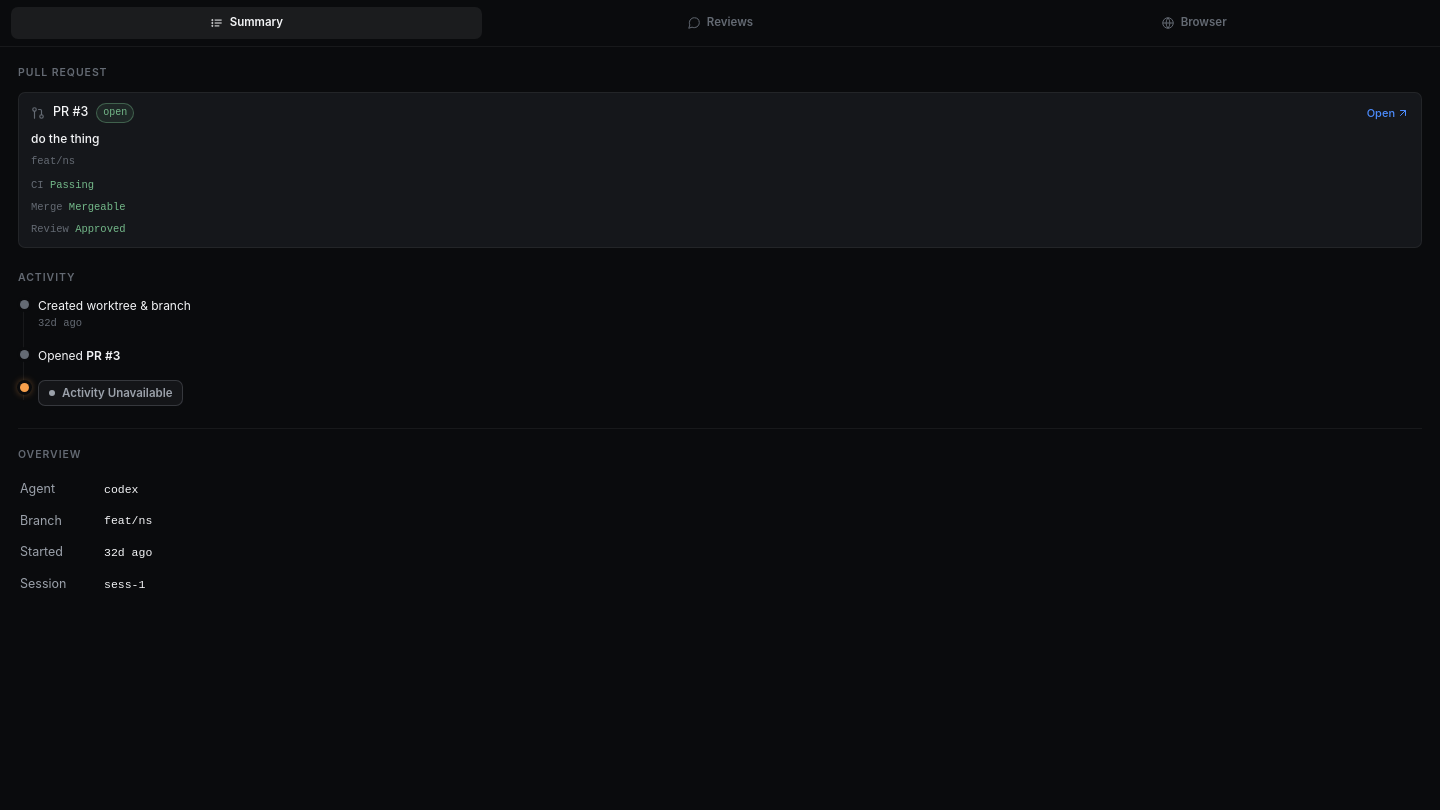
SessionInspector reviews tab › shows claude-code as the default reviewer before a run exists
Click the tab "Reviews".
click(720, 23)  # box [485, 7, 955, 39]
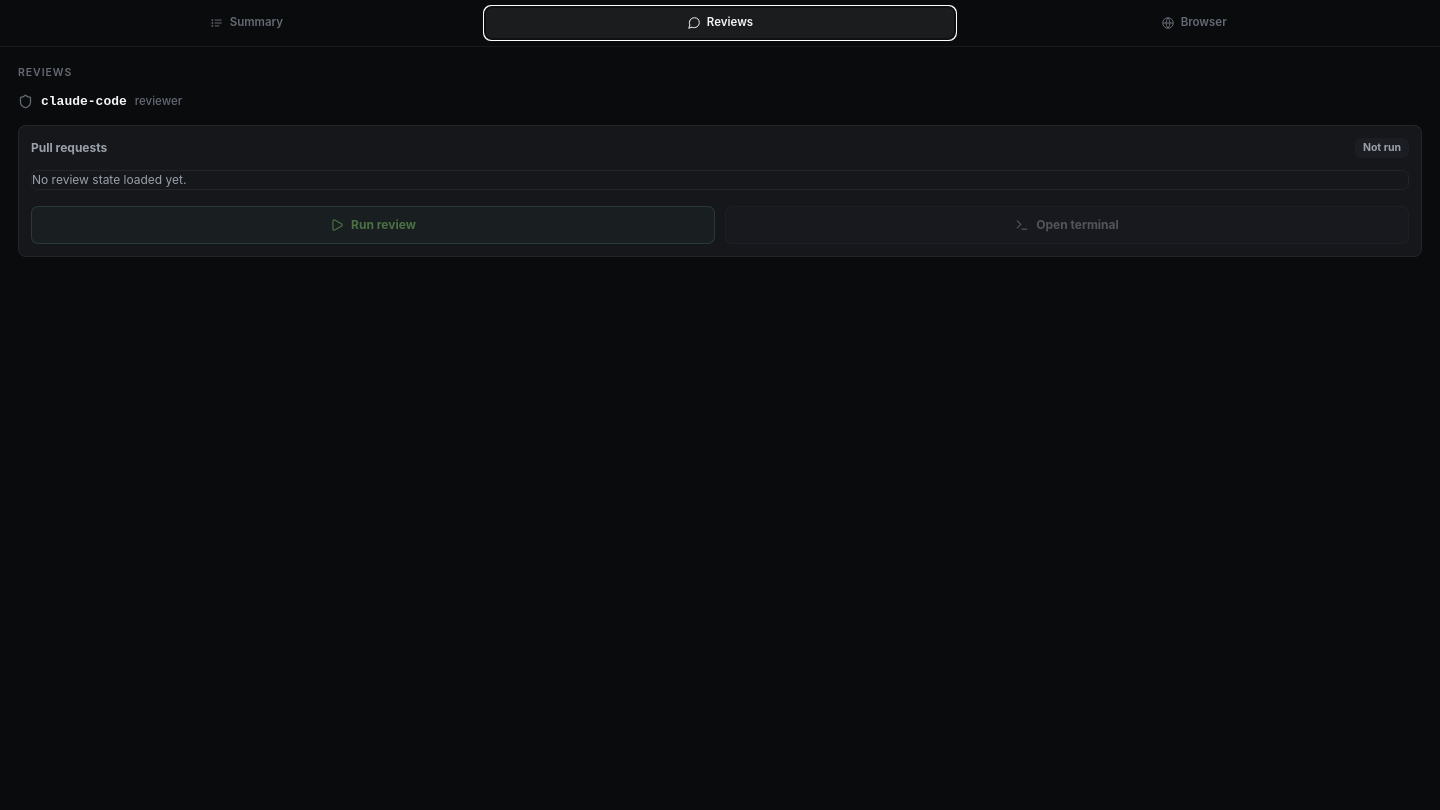
Expected: the text "claude-code" is shown, [41, 94, 127, 109]
